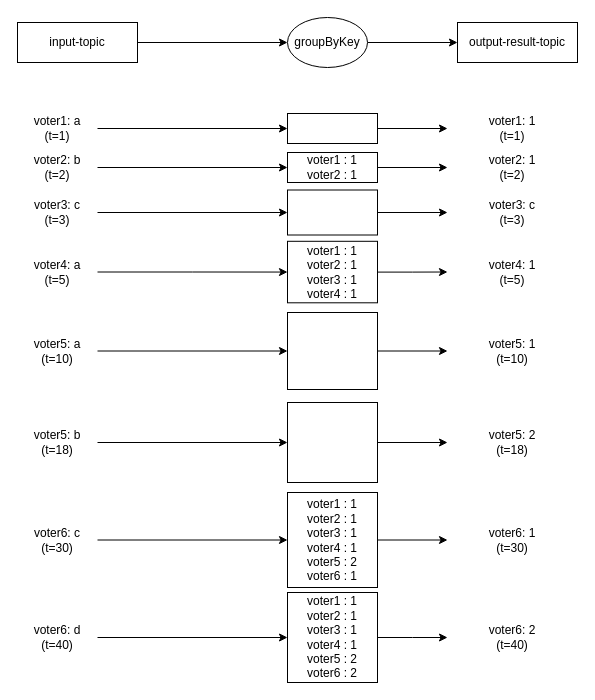
This 595x700 diagram has some shape labels left out. Each missing label, with the centre of its shape:
voter1 : 1: (332,128)
voter1 : 1 voter2 : 1 voter3 : 1: (332,212)
voter1 : 1 voter2 : 1 voter3 : 1 voter4 : 1 voter5 : 1: (332,351)
voter1 : 1 voter2 : 1 voter3 : 1 voter4 : 1 voter5 : 2: (332,442)
